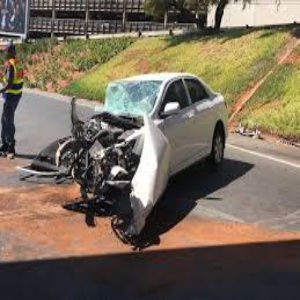bumper: (60, 165, 144, 236)
front_windshield_glass: (109, 79, 155, 112)
